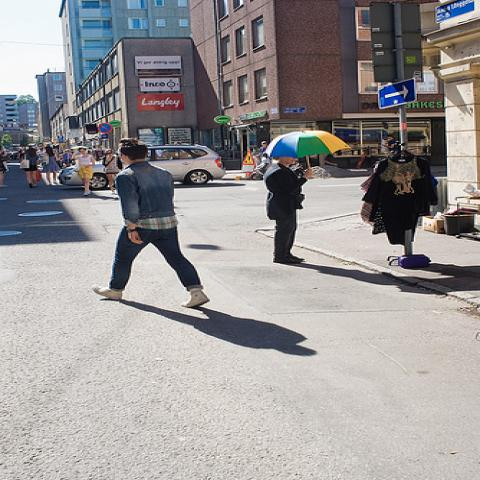car: (57, 146, 226, 190)
truck: (57, 144, 227, 190)
